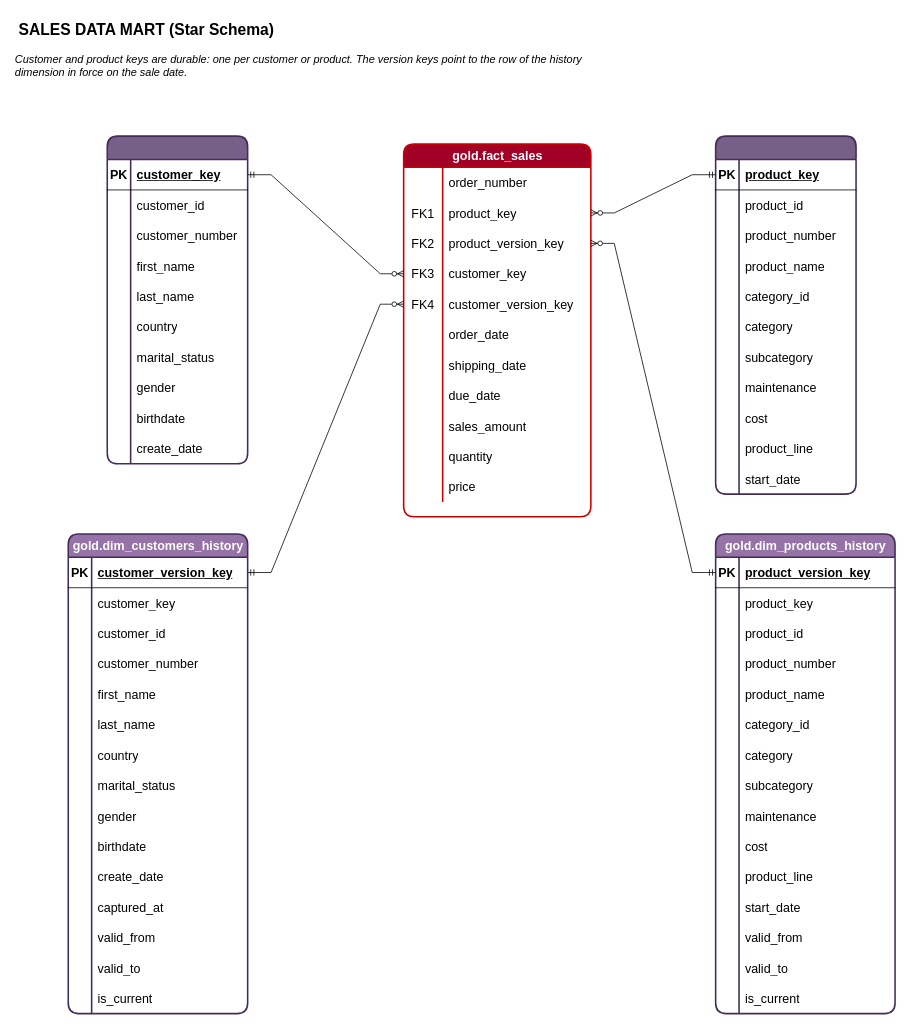
This 909x1027 diagram has some shape labels left out. The shapes that lost their labels are listed below. From the top down, each one's box as (x1, y1, x2, y2) in pixels, then its label:
(106, 135, 248, 464): gold.dim_customers
(714, 135, 856, 495): gold.dim_products
